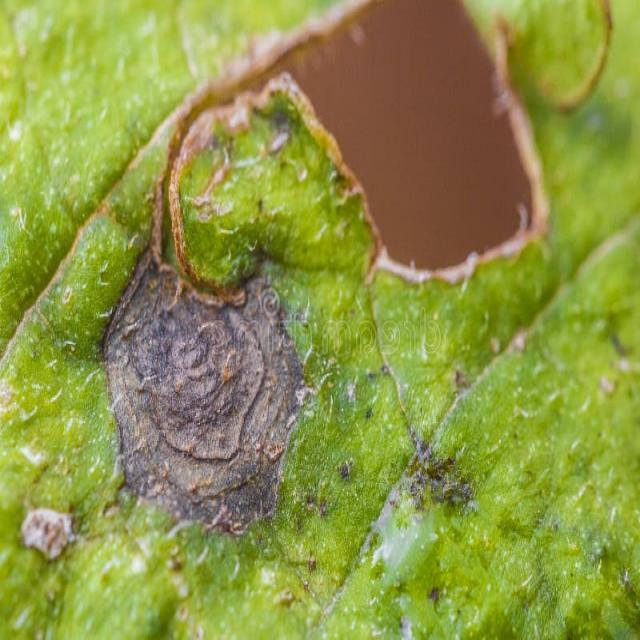Bacterial_Spot: (19, 0, 612, 584)
